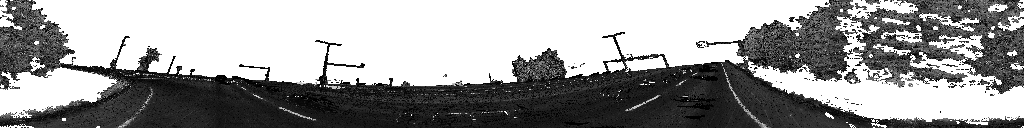gantry_sign_pole: (315, 40, 364, 90), (697, 39, 749, 67), (602, 54, 668, 70), (239, 64, 268, 73)
light_pole: (602, 33, 630, 78), (109, 38, 129, 77), (168, 56, 176, 72)
traffic_pole: (389, 79, 392, 90)
